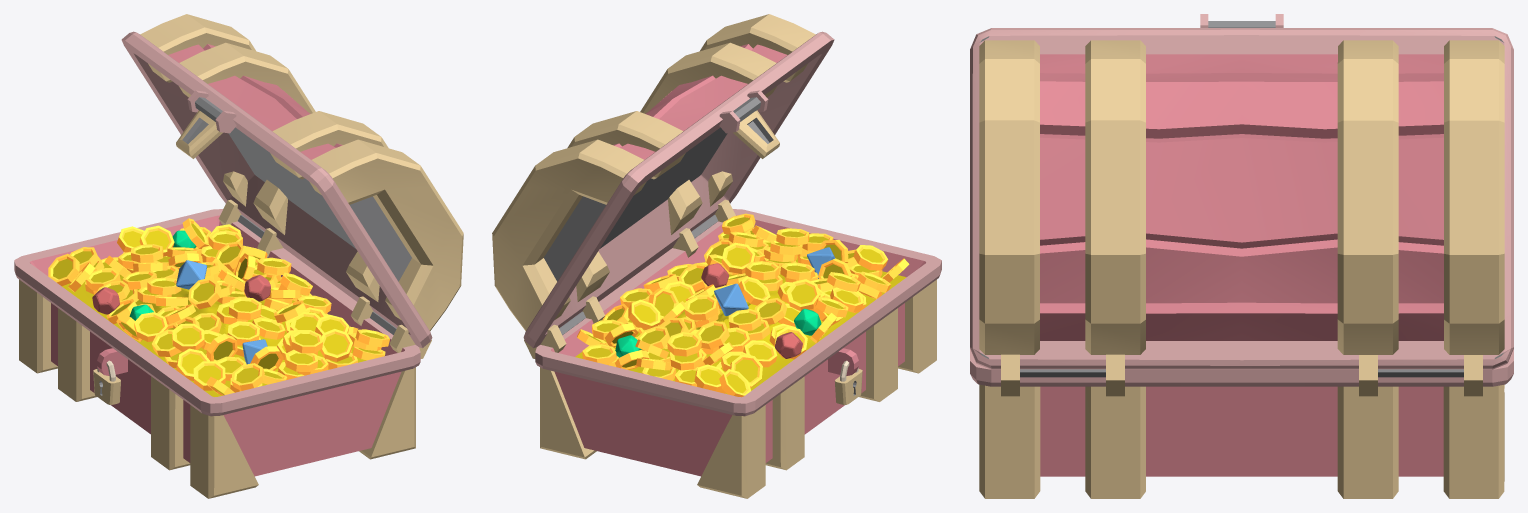
The model's file is Treasure_Chest_2c.fbx.
3 renders of one model, left to right at view 1: azimuth 30°, elevation 25°; view 2: azimuth 150°, elevation 25°; view 3: azimuth 270°, elevation 25°, orthographic. The views are drawn at different scales.
Visible parts, largest first — view 1: Opened_10, Treasure_Chest_2c, Gold_10; view 2: Opened_10, Treasure_Chest_2c, Gold_10; view 3: Opened_10, Treasure_Chest_2c.
Boxes of the visible parts, x1,y1,x2,y2 form: Opened_10: (121,14,463,348); Treasure_Chest_2c: (14,199,431,498); Gold_10: (48,218,389,396); Opened_10: (492,14,834,348); Treasure_Chest_2c: (524,199,941,498); Gold_10: (575,213,909,397); Opened_10: (970,14,1513,369); Treasure_Chest_2c: (970,349,1513,498).
Size of the model in its own units: 418 by 453 by 539.
